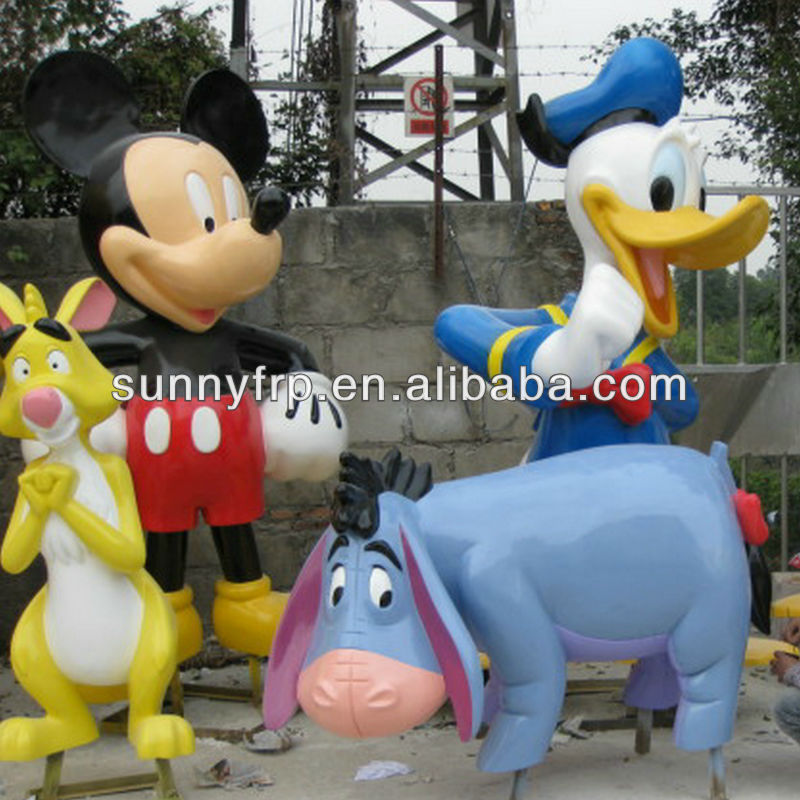Mickey: (12, 51, 312, 333)
